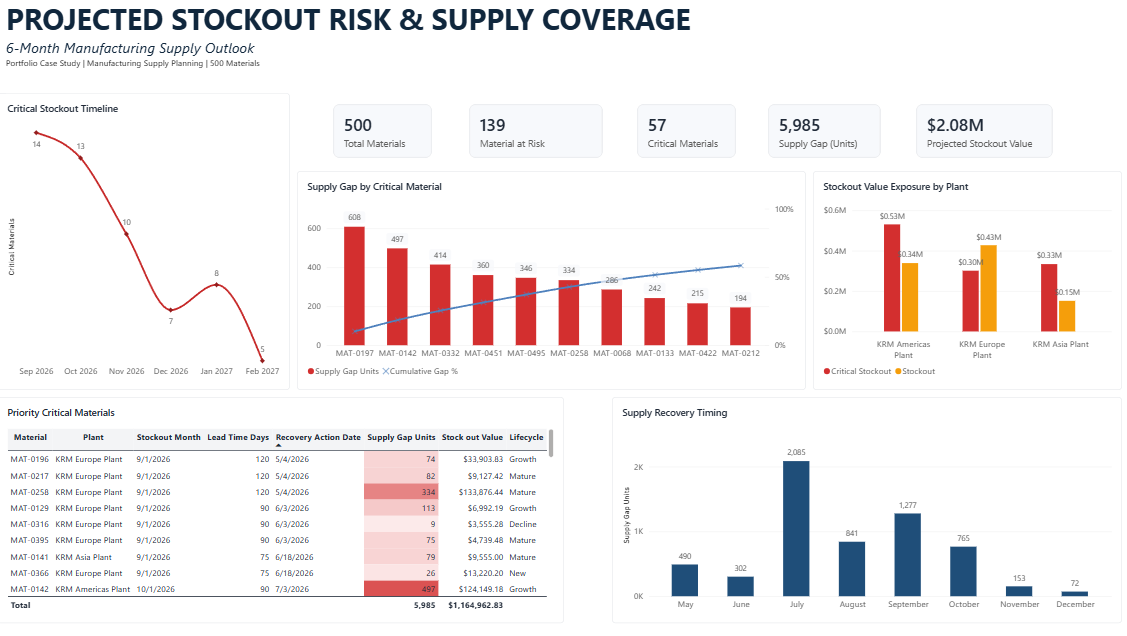

The dashboard page shown, as its layout file describes it:
{"tool":"powerbi","page":{"name":"Page 1","canvas":[1920,1080],"ordinal":0},"visuals":[{"type":"cardVisual","fields":{"Data":["Count(08___Stockout_Risk_Python_Analysis.Material_ID)"]},"box":[801.7,175,223.3,90],"z":0},{"type":"cardVisual","fields":{"Data":["Sum(08___Stockout_Risk_Python_Analysis.Stockout_Value_USD)"]},"box":[1546.7,175,228.3,90],"z":1000},{"type":"cardVisual","fields":{"Data":["Sum(08___Stockout_Risk_Python_Analysis.Remaining_Shortfall_Units)"]},"box":[1300,175,188.3,90],"z":2000},{"type":"cardVisual","fields":{"Data":["Count(08___Stockout_Risk_Python_Analysis.Material_ID)"]},"box":[1081.7,175,165,90],"z":3000},{"type":"lineChart","title":"Critical Stockout Timeline","fields":{"Y":["CountNonNull(08___Stockout_Risk_Python_Analysis.Material_ID)"],"Category":["08___Stockout_Risk_Python_Analysis.First_Stockout_Month"]},"box":[15,156.7,488.3,495],"z":4000},{"type":"lineClusteredColumnComboChart","title":"Supply Gap by Critical Material","fields":{"Category":["08___Stockout_Risk_Python_Analysis.Material_ID"],"Y":["Sum(08___Stockout_Risk_Python_Analysis.Remaining_Shortfall_Units)"],"Y2":["08___Stockout_Risk_Python_Analysis.Cumulative Critical Shortfall %"]},"box":[515,286.7,848.3,365],"z":5000},{"type":"tableEx","title":"Priority Critical Materials","fields":{"Values":["08___Stockout_Risk_Python_Analysis.Material_ID","08___Stockout_Risk_Python_Analysis.Site_Name","08___Stockout_Risk_Python_Analysis.First_Stockout_Month","08___Stockout_Risk_Python_Analysis.Lead_Time_Days","08___Stockout_Risk_Python_Analysis.Recovery_Action_Date","Sum(08___Stockout_Risk_Python_Analysis.Remaining_Shortfall_Units)","Sum(08___Stockout_Risk_Python_Analysis.Stockout_Value_USD)","08___Stockout_Risk_Python_Analysis.Lifecycle"]},"box":[15,663.3,945,376.7],"z":6000},{"type":"textbox","box":[30,0,1173.3,156.7],"z":7000},{"type":"clusteredColumnChart","title":"Stockout Value Exposure by Plant","fields":{"Category":["08___Stockout_Risk_Python_Analysis.Site_Name"],"Y":["Sum(08___Stockout_Risk_Python_Analysis.Stockout_Value_USD)"],"Series":["08___Stockout_Risk_Python_Analysis.Stockout_Status"]},"box":[1375,286.7,515,365],"z":8000},{"type":"cardVisual","fields":{"Data":["08___Stockout_Risk_Python_Analysis.Total Portfolio Materials"]},"box":[575,175,165,90],"z":9000},{"type":"clusteredColumnChart","title":"Supply  Recovery Timing","fields":{"Category":["08___Stockout_Risk_Python_Analysis.Recovery_Action_Date.Variation.Date Hierarchy.Year","08___Stockout_Risk_Python_Analysis.Recovery_Action_Date.Variation.Date Hierarchy.Quarter","08___Stockout_Risk_Python_Analysis.Recovery_Action_Date.Variation.Date Hierarchy.Month","08___Stockout_Risk_Python_Analysis.Recovery_Action_Date.Variation.Date Hierarchy.Day"],"Y":["Sum(08___Stockout_Risk_Python_Analysis.Remaining_Shortfall_Units)"]},"box":[1040,663.3,850,376.7],"z":10000}]}

Visuals, with their boxes in screenshot pixels (x1, y1, x2, y2), scaled from the page's 1920x1080 canvas onto the 1127x636 screenshot:
cardVisual - Count(08___Stockout_Risk_Python_Analysis.Material_ID): (471,103,602,156)
cardVisual - Sum(08___Stockout_Risk_Python_Analysis.Stockout_Value_USD): (908,103,1042,156)
cardVisual - Sum(08___Stockout_Risk_Python_Analysis.Remaining_Shortfall_Units): (763,103,874,156)
cardVisual - Count(08___Stockout_Risk_Python_Analysis.Material_ID): (635,103,732,156)
"Critical Stockout Timeline" lineChart: (9,92,295,384)
"Supply Gap by Critical Material" lineClusteredColumnComboChart: (302,169,800,384)
"Priority Critical Materials" tableEx: (9,391,564,612)
textbox: (18,0,706,92)
"Stockout Value Exposure by Plant" clusteredColumnChart: (807,169,1109,384)
cardVisual - 08___Stockout_Risk_Python_Analysis.Total Portfolio Materials: (338,103,434,156)
"Supply  Recovery Timing" clusteredColumnChart: (610,391,1109,612)
